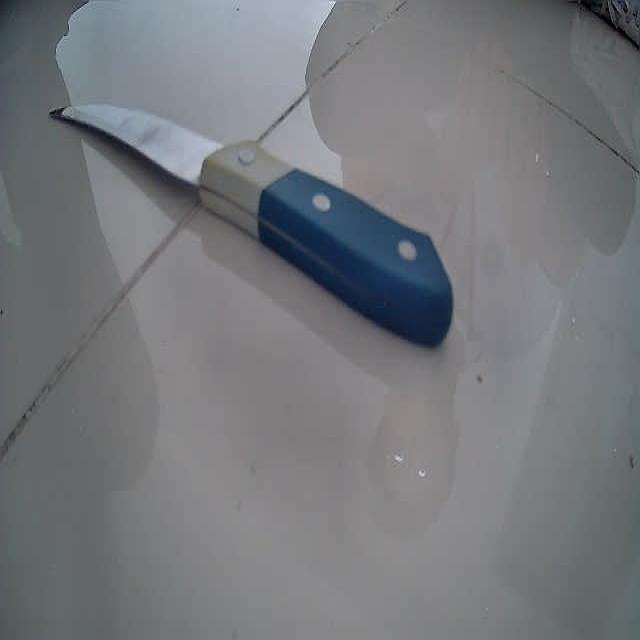knife: (49, 104, 454, 351)
